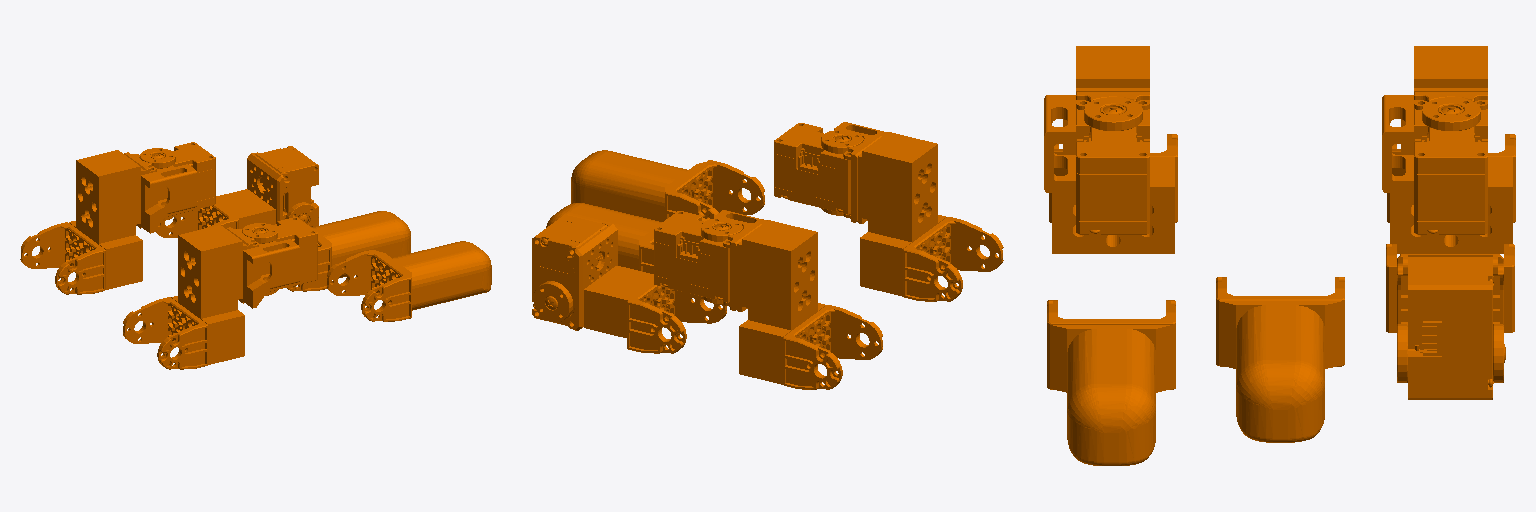
robot.urdf — onshape:
<robot name="onshape">
  <link name="palm_lower">
    <inertial>
      <origin xyz="0.0 0.0 0.0" rpy="0.0 -0.0 0.0"/>
      <mass value="0.237"/>
      <inertia ixx="0.000354094" ixy="-1.193e-06" ixz="-2.445e-06" iyy="0.000260915" iyz="-2.905e-06" izz="0.000529257"/>
    </inertial>
    <visual>
      <geometry>
        <mesh filename="../assets/leap/leap_hand/palm_lower.stl"/>
      </geometry>
      <origin xyz="-0.020095249652862544 0.025757756134899473 -0.034722403578460216" rpy="0.0 -0.0 0.0"/>
      <material name="palm_lower_material">
        <color rgba="0.6039215686274509 0.14901960784313725 0.14901960784313725 1.0"/>
      </material>
    </visual>
    <collision>
      <geometry>
        <mesh filename="../assets/leap/leap_hand/palm_lower.stl"/>
      </geometry>
      <origin xyz="-0.020095249652862544 0.025757756134899473 -0.034722403578460216" rpy="0.0 -0.0 0.0"/>
    </collision>
  </link>
  <link name="mcp_joint_long">
    <inertial>
      <origin xyz="0.0 0.0 0.0" rpy="0.0 -0.0 0.0"/>
      <mass value="0.044"/>
      <inertia ixx="1.1499e-05" ixy="3.049e-06" ixz="1.21e-07" iyy="7.796e-06" iyz="1.12e-07" izz="1.4759e-05"/>
    </inertial>
    <visual>
      <geometry>
        <mesh filename="custom_models/mcp_joint_long.stl"/>
      </geometry>
      <origin xyz="0.008406902261174496 0.0077662438597169954 0.014657354985032912" rpy="1.6375789613221e-15 -1.021047330249102e-30 1.7177968783327987e-31"/>
      <material name="mcp_joint_material">
        <color rgba="0.878 0.467 0.0 1.0"/>
      </material>
    </visual>
    <collision>
      <geometry>
        <mesh filename="custom_models/mcp_joint_long.stl"/>
      </geometry>
      <origin xyz="0.008406902261174496 0.0077662438597169954 0.014657354985032912" rpy="1.6375789613221e-15 -1.021047330249102e-30 1.7177968783327987e-31"/>
    </collision>
  </link>
  <link name="pip">
    <inertial>
      <origin xyz="0.0 0.0 0.0" rpy="0.0 -0.0 0.0"/>
      <mass value="0.032"/>
      <inertia ixx="4.798e-06" ixy="1.2e-08" ixz="4e-09" iyy="2.862e-06" iyz="1.1e-08" izz="4.234e-06"/>
    </inertial>
    <visual>
      <geometry>
        <mesh filename="../assets/leap/leap_hand/pip.stl"/>
      </geometry>
      <origin xyz="0.009643363092271328 0.0002999999999999895 0.0007840340104173765" rpy="-1.5707963267948966 -1.5707963267948963 0.0"/>
      <material name="pip_material">
        <color rgba="0.7490196078431373 0.7490196078431373 0.7490196078431373 1.0"/>
      </material>
    </visual>
    <collision>
      <geometry>
        <mesh filename="../assets/leap/leap_hand/pip.stl"/>
      </geometry>
      <origin xyz="0.009643363092271328 0.0002999999999999895 0.0007840340104173765" rpy="-1.5707963267948966 -1.5707963267948963 0.0"/>
    </collision>
  </link>
  <link name="dip_long">
    <inertial>
      <origin xyz="0.0 0.0 0.0" rpy="0.0 -0.0 0.0"/>
      <mass value="0.037"/>
      <inertia ixx="5.542e-06" ixy="-6.07e-07" ixz="-1.7e-08" iyy="5.727e-06" iyz="-2.3e-08" izz="6.682e-06"/>
    </inertial>
    <visual>
      <geometry>
        <mesh filename="custom_models/dip_long.stl"/>
      </geometry>
      <origin xyz="0.021133352895225003 -0.00843211914670488 0.00978508816209524" rpy="-3.141592653589793 4.507511124216441e-32 4.439548105392361e-32"/>
      <material name="dip_material">
        <color rgba="0.878 0.467 0.0 1.0"/>
      </material>
    </visual>
    <collision>
      <geometry>
        <mesh filename="custom_models/dip_long.stl"/>
      </geometry>
      <origin xyz="0.021133352895225003 -0.00843211914670488 0.00978508816209524" rpy="-3.141592653589793 4.507511124216441e-32 4.439548105392361e-32"/>
    </collision>
  </link>
  <link name="fingertip">
    <inertial>
      <origin xyz="0.0 0.0 0.0" rpy="0.0 -0.0 0.0"/>
      <mass value="0.016"/>
      <inertia ixx="3.368e-06" ixy="1.15e-07" ixz="0.0" iyy="1.556e-06" iyz="0.0" izz="2.863e-06"/>
    </inertial>
    <visual>
      <geometry>
        <mesh filename="../assets/leap/leap_hand/fingertip.stl"/>
      </geometry>
      <origin xyz="0.013286424108533503 -0.006114238386541987 0.014499999999999498" rpy="3.141592653589793 1.1993117970061735e-33 4.439548105392361e-32"/>
      <material name="fingertip_material">
        <color rgba="0.8666666666666667 0.8666666666666667 0.050980392156862744 1.0"/>
      </material>
    </visual>
    <collision>
      <geometry>
        <mesh filename="../assets/leap/leap_hand/fingertip.stl"/>
      </geometry>
      <origin xyz="0.013286424108533503 -0.006114238386541987 0.014499999999999498" rpy="3.141592653589793 1.1993117970061735e-33 4.439548105392361e-32"/>
    </collision>
  </link>
  <link name="pip_4">
    <inertial>
      <origin xyz="0.0 0.0 0.0" rpy="0.0 -0.0 0.0"/>
      <mass value="0.032"/>
      <inertia ixx="4.798e-06" ixy="1.2e-08" ixz="4e-09" iyy="2.862e-06" iyz="1.1e-08" izz="4.234e-06"/>
    </inertial>
    <visual>
      <geometry>
        <mesh filename="../assets/leap/leap_hand/pip.stl"/>
      </geometry>
      <origin xyz="-0.005356636907728671 0.0002999999999999999 0.0007840340104173782" rpy="-1.5707963267948966 -1.5707963267948963 0.0"/>
      <material name="pip_material">
        <color rgba="0.7490196078431373 0.7490196078431373 0.7490196078431373 1.0"/>
      </material>
    </visual>
    <collision>
      <geometry>
        <mesh filename="../assets/leap/leap_hand/pip.stl"/>
      </geometry>
      <origin xyz="-0.005356636907728671 0.0002999999999999999 0.0007840340104173782" rpy="-1.5707963267948966 -1.5707963267948963 0.0"/>
    </collision>
  </link>
  <link name="thumb_pip">
    <inertial>
      <origin xyz="0.0 0.0 0.0" rpy="0.0 -0.0 0.0"/>
      <mass value="0.003"/>
      <inertia ixx="5.93e-07" ixy="0.0" ixz="0.0" iyy="5.49e-07" iyz="0.0" izz="2.24e-07"/>
    </inertial>
    <visual>
      <geometry>
        <mesh filename="../assets/leap/leap_hand/thumb_pip.stl"/>
      </geometry>
      <origin xyz="0.011961920770611187 -5.30825383648903e-16 -0.0158526489566642" rpy="1.5707963267948966 1.6050198443300153e-46 -3.9204996250525193e-59"/>
      <material name="thumb_pip_material">
        <color rgba="0.8666666666666667 0.8666666666666667 0.050980392156862744 1.0"/>
      </material>
    </visual>
    <collision>
      <geometry>
        <mesh filename="../assets/leap/leap_hand/thumb_pip.stl"/>
      </geometry>
      <origin xyz="0.011961920770611187 -5.30825383648903e-16 -0.0158526489566642" rpy="1.5707963267948966 1.6050198443300153e-46 -3.9204996250525193e-59"/>
    </collision>
  </link>
  <link name="thumb_dip">
    <inertial>
      <origin xyz="0.0 0.0 0.0" rpy="0.0 -0.0 0.0"/>
      <mass value="0.038"/>
      <inertia ixx="8.474e-06" ixy="2.41e-07" ixz="2.6e-08" iyy="3.841e-06" iyz="2.5e-08" izz="7.679e-06"/>
    </inertial>
    <visual>
      <geometry>
        <mesh filename="../assets/leap/leap_hand/thumb_dip.stl"/>
      </geometry>
      <origin xyz="0.043968715707239175 0.0579529529737092 -0.008628676449369476" rpy="1.94289029309401e-16 3.27515792264422e-15 1.112375852965736e-46"/>
      <material name="thumb_dip_material">
        <color rgba="0.8666666666666667 0.8666666666666667 0.050980392156862744 1.0"/>
      </material>
    </visual>
    <collision>
      <geometry>
        <mesh filename="../assets/leap/leap_hand/thumb_dip.stl"/>
      </geometry>
      <origin xyz="0.043968715707239175 0.0579529529737092 -0.008628676449369476" rpy="1.94289029309401e-16 3.27515792264422e-15 1.112375852965736e-46"/>
    </collision>
  </link>
  <link name="thumb_fingertip">
    <inertial>
      <origin xyz="0.0 0.0 0.0" rpy="0.0 -0.0 0.0"/>
      <mass value="0.049"/>
      <inertia ixx="2.0372e-05" ixy="-4.89e-07" ixz="-3e-08" iyy="4.336e-06" iyz="-9.7e-08" izz="1.9845e-05"/>
    </inertial>
    <visual>
      <geometry>
        <mesh filename="../assets/leap/leap_hand/thumb_fingertip.stl"/>
      </geometry>
      <origin xyz="0.06255953846266739 0.07845968291139699 0.048992911807332215" rpy="4.379057701015637e-47 -3.33066907387547e-16 1.2042408677791935e-46"/>
      <material name="thumb_fingertip_material">
        <color rgba="0.6039215686274509 0.14901960784313725 0.14901960784313725 1.0"/>
      </material>
    </visual>
    <collision>
      <geometry>
        <mesh filename="../assets/leap/leap_hand/thumb_fingertip.stl"/>
      </geometry>
      <origin xyz="0.06255953846266739 0.07845968291139699 0.048992911807332215" rpy="4.379057701015637e-47 -3.33066907387547e-16 1.2042408677791935e-46"/>
    </collision>
  </link>
  <link name="mcp_joint_2">
    <inertial>
      <origin xyz="0.0 0.0 0.0" rpy="0.0 -0.0 0.0"/>
      <mass value="0.044"/>
      <inertia ixx="1.1499e-05" ixy="3.049e-06" ixz="1.21e-07" iyy="7.796e-06" iyz="1.12e-07" izz="1.4759e-05"/>
    </inertial>
    <visual>
      <geometry>
        <mesh filename="../assets/leap/leap_hand/mcp_joint.stl"/>
      </geometry>
      <origin xyz="0.008406902261174496 0.0077662438597169954 0.014657354985032914" rpy="1.6375789613221e-15 -1.0076465469034e-30 2.1209300131419907e-61"/>
      <material name="mcp_joint_material">
        <color rgba="0.8666666666666667 0.8666666666666667 0.050980392156862744 1.0"/>
      </material>
    </visual>
    <collision>
      <geometry>
        <mesh filename="../assets/leap/leap_hand/mcp_joint.stl"/>
      </geometry>
      <origin xyz="0.008406902261174496 0.0077662438597169954 0.014657354985032914" rpy="1.6375789613221e-15 -1.0076465469034e-30 2.1209300131419907e-61"/>
    </collision>
  </link>
  <link name="pip_2">
    <inertial>
      <origin xyz="0.0 0.0 0.0" rpy="0.0 -0.0 0.0"/>
      <mass value="0.032"/>
      <inertia ixx="4.798e-06" ixy="1.2e-08" ixz="4e-09" iyy="2.862e-06" iyz="1.1e-08" izz="4.234e-06"/>
    </inertial>
    <visual>
      <geometry>
        <mesh filename="../assets/leap/leap_hand/pip.stl"/>
      </geometry>
      <origin xyz="0.009643363092271328 0.0002999999999999947 0.0007840340104173765" rpy="-1.5707963267948966 -1.5707963267948963 0.0"/>
      <material name="pip_material">
        <color rgba="0.7490196078431373 0.7490196078431373 0.7490196078431373 1.0"/>
      </material>
    </visual>
    <collision>
      <geometry>
        <mesh filename="../assets/leap/leap_hand/pip.stl"/>
      </geometry>
      <origin xyz="0.009643363092271328 0.0002999999999999947 0.0007840340104173765" rpy="-1.5707963267948966 -1.5707963267948963 0.0"/>
    </collision>
  </link>
  <link name="dip_2">
    <inertial>
      <origin xyz="0.0 0.0 0.0" rpy="0.0 -0.0 0.0"/>
      <mass value="0.037"/>
      <inertia ixx="5.542e-06" ixy="-6.07e-07" ixz="-1.7e-08" iyy="5.727e-06" iyz="-2.3e-08" izz="6.682e-06"/>
    </inertial>
    <visual>
      <geometry>
        <mesh filename="../assets/leap/leap_hand/dip.stl"/>
      </geometry>
      <origin xyz="0.021133352895225003 -0.008432119146704865 0.009785088162095237" rpy="-3.141592653589793 2.1146933785271956e-32 1.4408183216511869e-31"/>
      <material name="dip_material">
        <color rgba="0.8666666666666667 0.8666666666666667 0.050980392156862744 1.0"/>
      </material>
    </visual>
    <collision>
      <geometry>
        <mesh filename="../assets/leap/leap_hand/dip.stl"/>
      </geometry>
      <origin xyz="0.021133352895225003 -0.008432119146704865 0.009785088162095237" rpy="-3.141592653589793 2.1146933785271956e-32 1.4408183216511869e-31"/>
    </collision>
  </link>
  <link name="fingertip_2_long">
    <inertial>
      <origin xyz="0.0 0.0 0.0" rpy="0.0 -0.0 0.0"/>
      <mass value="0.016"/>
      <inertia ixx="3.368e-06" ixy="1.15e-07" ixz="0.0" iyy="1.556e-06" iyz="0.0" izz="2.863e-06"/>
    </inertial>
    <visual>
      <geometry>
        <mesh filename="custom_models/fingertip_long.stl"/>
      </geometry>
      <origin xyz="0.013286424108533496 -0.006114238386542001 0.014499999999999496" rpy="3.141592653589793 -4.317959788283594e-33 1.4408183216511869e-31"/>
      <material name="fingertip_material">
        <color rgba="0.878 0.467 0.0 1.0"/>
      </material>
    </visual>
    <collision>
      <geometry>
        <mesh filename="custom_models/fingertip_long.stl"/>
      </geometry>
      <origin xyz="0.013286424108533496 -0.006114238386542001 0.014499999999999496" rpy="3.141592653589793 -4.317959788283594e-33 1.4408183216511869e-31"/>
    </collision>
  </link>
  <link name="mcp_joint_3_long">
    <inertial>
      <origin xyz="0.0 0.0 0.0" rpy="0.0 -0.0 0.0"/>
      <mass value="0.044"/>
      <inertia ixx="1.1499e-05" ixy="3.049e-06" ixz="1.21e-07" iyy="7.796e-06" iyz="1.12e-07" izz="1.4759e-05"/>
    </inertial>
    <visual>
      <geometry>
        <mesh filename="custom_models/mcp_joint_long.stl"/>
      </geometry>
      <origin xyz="0.0084069022611745 0.007766243859716996 0.014657354985032914" rpy="1.6375789613221e-15 -1.0059504988632627e-30 5.729641584552035e-32"/>
      <material name="mcp_joint_material">
        <color rgba="0.878 0.467 0.0 1.0"/>
      </material>
    </visual>
    <collision>
      <geometry>
        <mesh filename="custom_models/mcp_joint_long.stl"/>
      </geometry>
      <origin xyz="0.0084069022611745 0.007766243859716996 0.014657354985032914" rpy="1.6375789613221e-15 -1.0059504988632627e-30 5.729641584552035e-32"/>
    </collision>
  </link>
  <link name="pip_3">
    <inertial>
      <origin xyz="0.0 0.0 0.0" rpy="0.0 -0.0 0.0"/>
      <mass value="0.032"/>
      <inertia ixx="4.798e-06" ixy="1.2e-08" ixz="4e-09" iyy="2.862e-06" iyz="1.1e-08" izz="4.234e-06"/>
    </inertial>
    <visual>
      <geometry>
        <mesh filename="../assets/leap/leap_hand/pip.stl"/>
      </geometry>
      <origin xyz="0.009643363092271331 0.00029999999999998084 0.0007840340104173765" rpy="-1.5707963267948966 -1.5707963267948963 0.0"/>
      <material name="pip_material">
        <color rgba="0.7490196078431373 0.7490196078431373 0.7490196078431373 1.0"/>
      </material>
    </visual>
    <collision>
      <geometry>
        <mesh filename="../assets/leap/leap_hand/pip.stl"/>
      </geometry>
      <origin xyz="0.009643363092271331 0.00029999999999998084 0.0007840340104173765" rpy="-1.5707963267948966 -1.5707963267948963 0.0"/>
    </collision>
  </link>
  <link name="dip_3">
    <inertial>
      <origin xyz="0.0 0.0 0.0" rpy="0.0 -0.0 0.0"/>
      <mass value="0.037"/>
      <inertia ixx="5.542e-06" ixy="-6.07e-07" ixz="-1.7e-08" iyy="5.727e-06" iyz="-2.3e-08" izz="6.682e-06"/>
    </inertial>
    <visual>
      <geometry>
        <mesh filename="../assets/leap/leap_hand/dip.stl"/>
      </geometry>
      <origin xyz="0.021133352895225006 -0.008432119146704865 0.009785088162095237" rpy="-3.141592653589793 -1.4095651113919093e-33 1.5565411607615035e-32"/>
      <material name="dip_material">
        <color rgba="0.8666666666666667 0.8666666666666667 0.050980392156862744 1.0"/>
      </material>
    </visual>
    <collision>
      <geometry>
        <mesh filename="../assets/leap/leap_hand/dip.stl"/>
      </geometry>
      <origin xyz="0.021133352895225006 -0.008432119146704865 0.009785088162095237" rpy="-3.141592653589793 -1.4095651113919093e-33 1.5565411607615035e-32"/>
    </collision>
  </link>
  <link name="fingertip_3_long">
    <inertial>
      <origin xyz="0.0 0.0 0.0" rpy="0.0 -0.0 0.0"/>
      <mass value="0.016"/>
      <inertia ixx="3.368e-06" ixy="1.15e-07" ixz="0.0" iyy="1.556e-06" iyz="0.0" izz="2.863e-06"/>
    </inertial>
    <visual>
      <geometry>
        <mesh filename="custom_models/fingertip_long.stl"/>
      </geometry>
      <origin xyz="0.013286424108533501 -0.006114238386541987 0.0144999999999995" rpy="3.141592653589793 8.61707169505754e-33 1.5565411607615035e-32"/>
      <material name="fingertip_material">
        <color rgba="0.878 0.467 0.0 1.0"/>
      </material>
    </visual>
    <collision>
      <geometry>
        <mesh filename="custom_models/fingertip_long.stl"/>
      </geometry>
      <origin xyz="0.013286424108533501 -0.006114238386541987 0.0144999999999995" rpy="3.141592653589793 8.61707169505754e-33 1.5565411607615035e-32"/>
    </collision>
  </link>
  <joint name="1" type="revolute">
    <parent link="palm_lower"/>
    <child link="mcp_joint_long"/>
    <origin xyz="-0.007095249652862546 0.023057756134899472 -0.01872240357846022" rpy="1.570796326794895 1.5707963267948946 0.0"/>
    <axis xyz="0.0 0.0 -1.0"/>
    <limit effort="0.95" velocity="8.48" lower="-0.314" upper="2.23"/>
  </joint>
  <joint name="0" type="revolute">
    <parent link="mcp_joint_long"/>
    <child link="pip"/>
    <origin xyz="-0.012200000000000007713 0.053099999999999994982 0.014500000000000000736" rpy="-1.5707963267948966 -1.0065212660796337e-15 1.5707963267948943"/>
    <axis xyz="0.0 0.0 -1.0"/>
    <limit effort="0.95" velocity="8.48" lower="-1.047" upper="1.047"/>
  </joint>
  <joint name="2" type="revolute">
    <parent link="pip"/>
    <child link="dip_long"/>
    <origin xyz="0.014999999999999968 0.014299999999999905 -0.012999999999999824" rpy="1.570796326794896 -1.5707963267948963 0.0"/>
    <axis xyz="0.0 0.0 -1.0"/>
    <limit effort="0.95" velocity="8.48" lower="-0.506" upper="1.885"/>
  </joint>
  <joint name="3" type="revolute">
    <parent link="dip_long"/>
    <child link="fingertip"/>
    <origin xyz="-4.0880582495572692636e-09 -0.051100004210367367397 0.00020000000000007858714" rpy="4.5935029425113685e-17 -2.8730071914463795e-16 4.439548105392361e-32"/>
    <axis xyz="0.0 0.0 -1.0"/>
    <limit effort="0.95" velocity="8.48" lower="-0.366" upper="2.042"/>
  </joint>
  <joint name="12" type="revolute">
    <parent link="palm_lower"/>
    <child link="pip_4"/>
    <origin xyz="-0.06939524965286253 -0.0012422438651005258 -0.021622403578460216" rpy="-8.238176646493942e-17 1.5707963267948957 0.0"/>
    <axis xyz="0.0 0.0 -1.0"/>
    <limit effort="0.95" velocity="8.48" lower="-0.349" upper="2.094"/>
  </joint>
  <joint name="13" type="revolute">
    <parent link="pip_4"/>
    <child link="thumb_pip"/>
    <origin xyz="-2.7755575615628914e-17 0.014300000000000005 -0.013000000000000012" rpy="1.570796326794896 -1.5707963267948963 0.0"/>
    <axis xyz="0.0 0.0 -1.0"/>
    <limit effort="0.95" velocity="8.48" lower="-0.47" upper="2.443"/>
  </joint>
  <joint name="14" type="revolute">
    <parent link="thumb_pip"/>
    <child link="thumb_dip"/>
    <origin xyz="0.0 0.014499999999999966 -0.017000000000000053" rpy="-1.5707963267948966 1.6050198443300131e-46 -1.9721522630516625e-31"/>
    <axis xyz="0.0 0.0 -1.0"/>
    <limit effort="0.95" velocity="8.48" lower="-1.2" upper="1.9"/>
  </joint>
  <joint name="15" type="revolute">
    <parent link="thumb_dip"/>
    <child link="thumb_fingertip"/>
    <origin xyz="-1.249000902703301e-16 0.046599999999999864 0.0001999999999999771" rpy="1.506395849149178e-44 5.423418723393526e-31 3.141592653589793"/>
    <axis xyz="0.0 0.0 -1.0"/>
    <limit effort="0.95" velocity="8.48" lower="-1.34" upper="1.88"/>
  </joint>
  <joint name="5" type="revolute">
    <parent link="palm_lower"/>
    <child link="mcp_joint_2"/>
    <origin xyz="-0.007095249652862546 -0.022392243865100525 -0.01872240357846022" rpy="1.570796326794895 1.5707963267948946 0.0"/>
    <axis xyz="0.0 0.0 -1.0"/>
    <limit effort="0.95" velocity="8.48" lower="-0.314" upper="2.23"/>
  </joint>
  <joint name="4" type="revolute">
    <parent link="mcp_joint_2"/>
    <child link="pip_2"/>
    <origin xyz="-0.012200000000000008 0.038099999999999995 0.0145" rpy="-1.5707963267948966 -1.0065212660796337e-15 1.5707963267948943"/>
    <axis xyz="0.0 0.0 -1.0"/>
    <limit effort="0.95" velocity="8.48" lower="-1.047" upper="1.047"/>
  </joint>
  <joint name="6" type="revolute">
    <parent link="pip_2"/>
    <child link="dip_2"/>
    <origin xyz="0.014999999999999968 0.014299999999999905 -0.012999999999999824" rpy="1.570796326794896 -1.5707963267948963 0.0"/>
    <axis xyz="0.0 0.0 -1.0"/>
    <limit effort="0.95" velocity="8.48" lower="-0.506" upper="1.885"/>
  </joint>
  <joint name="7" type="revolute">
    <parent link="dip_2"/>
    <child link="fingertip_2_long"/>
    <origin xyz="-4.088058249557269e-09 -0.03610000421036737 0.0002000000000000786" rpy="4.5935029425113685e-17 -2.8730071914463795e-16 4.439548105392361e-32"/>
    <axis xyz="0.0 0.0 -1.0"/>
    <limit effort="0.95" velocity="8.48" lower="-0.366" upper="2.042"/>
  </joint>
  <joint name="9" type="revolute">
    <parent link="palm_lower"/>
    <child link="mcp_joint_3_long"/>
    <origin xyz="-0.007095249652862546 -0.06784224386510052 -0.01872240357846022" rpy="1.570796326794895 1.5707963267948946 0.0"/>
    <axis xyz="0.0 0.0 -1.0"/>
    <limit effort="0.95" velocity="8.48" lower="-0.314" upper="2.23"/>
  </joint>
  <joint name="8" type="revolute">
    <parent link="mcp_joint_3_long"/>
    <child link="pip_3"/>
    <origin xyz="-0.012200000000000007713 0.053099999999999994982 0.014500000000000000736" rpy="-1.5707963267948966 -1.0065212660796337e-15 1.5707963267948943"/>
    <axis xyz="0.0 0.0 -1.0"/>
    <limit effort="0.95" velocity="8.48" lower="-1.047" upper="1.047"/>
  </joint>
  <joint name="10" type="revolute">
    <parent link="pip_3"/>
    <child link="dip_3"/>
    <origin xyz="0.014999999999999968 0.014299999999999905 -0.012999999999999824" rpy="1.570796326794896 -1.5707963267948963 0.0"/>
    <axis xyz="0.0 0.0 -1.0"/>
    <limit effort="0.95" velocity="8.48" lower="-0.506" upper="1.885"/>
  </joint>
  <joint name="11" type="revolute">
    <parent link="dip_3"/>
    <child link="fingertip_3_long"/>
    <origin xyz="-4.088058249557269e-09 -0.03610000421036737 0.0002000000000000786" rpy="4.5935029425113685e-17 -2.8730071914463795e-16 4.439548105392361e-32"/>
    <axis xyz="0.0 0.0 -1.0"/>
    <limit effort="0.95" velocity="8.48" lower="-0.366" upper="2.042"/>
  </joint>
</robot>

--- Facts derived from the render (not from the file) ---
The picture shows the robot from 3 angles, left to right: view 1: azimuth 30°, elevation 25°; view 2: azimuth 150°, elevation 25°; view 3: azimuth 270°, elevation 25°; orthographic projection.
Model onshape with 17 links and 16 joints (16 revolute), rooted at palm_lower, posed every joint at zero.
Links seen in each view (by area): view 1: mcp_joint_long, mcp_joint_3_long, fingertip_3_long, dip_long, fingertip_2_long; view 2: mcp_joint_long, mcp_joint_3_long, dip_long, fingertip_3_long, fingertip_2_long; view 3: mcp_joint_3_long, mcp_joint_long, dip_long, fingertip_3_long, fingertip_2_long.
Boxes of the visible links, box(x1,y1,x2,y2) form: mcp_joint_long: box(20, 142, 215, 294); mcp_joint_3_long: box(123, 217, 317, 369); fingertip_3_long: box(327, 241, 491, 321); dip_long: box(155, 146, 318, 237); fingertip_2_long: box(273, 211, 410, 291); mcp_joint_long: box(654, 210, 882, 389); mcp_joint_3_long: box(774, 122, 1003, 301); dip_long: box(532, 215, 726, 353); fingertip_3_long: box(571, 150, 764, 221); fingertip_2_long: box(546, 203, 707, 273); mcp_joint_3_long: box(1044, 46, 1177, 253); mcp_joint_long: box(1382, 46, 1515, 253); dip_long: box(1386, 244, 1514, 399); fingertip_3_long: box(1047, 300, 1175, 465); fingertip_2_long: box(1216, 277, 1344, 442).
Size in the robot's own frame: 0.1766 by 0.1267 by 0.0549 metres.
5 mesh visuals loaded from 11 distinct referenced files (3 binary STL); not drawn: 12 (reference not matched to a file when rendering).